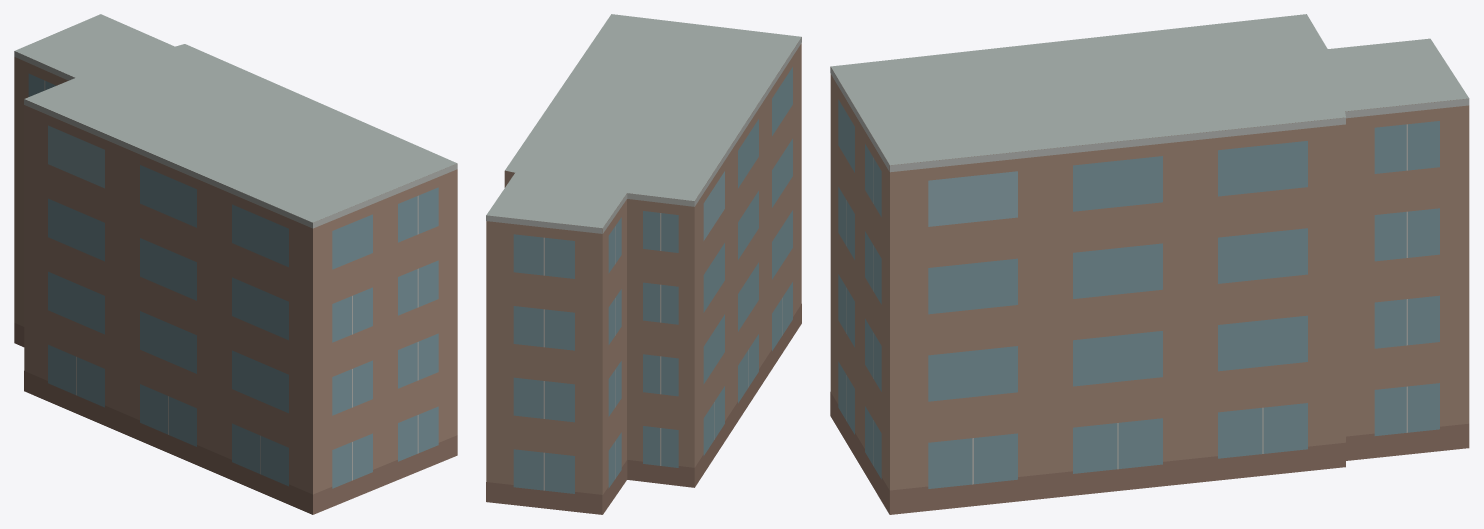
File: survey-upis-32712861.glb
The picture shows the model from 3 angles, left to right: view 1: azimuth 30°, elevation 25°; view 2: azimuth 150°, elevation 25°; view 3: azimuth 270°, elevation 25°; orthographic projection. The views are drawn at different scales.
Visible parts, largest first — view 1: survey-upis-32712861.tmp; view 2: survey-upis-32712861.tmp; view 3: survey-upis-32712861.tmp.
Boxes of the visible parts, x1,y1,x2,y2 form: survey-upis-32712861.tmp: (14,14,457,514); survey-upis-32712861.tmp: (486,14,801,514); survey-upis-32712861.tmp: (830,14,1469,514).
Bounding box in the file's own units: 11.33 × 12.2 × 20.21.
